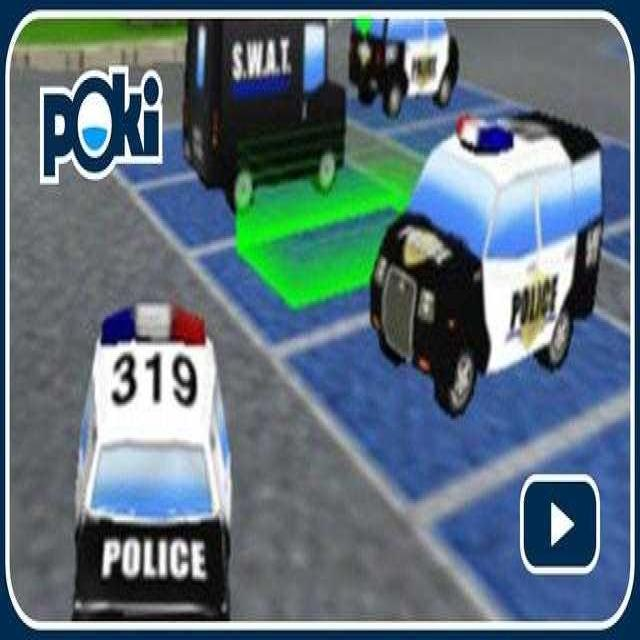firetruck: (364, 96, 623, 399), (54, 266, 253, 640), (182, 26, 356, 218), (344, 0, 473, 139)
